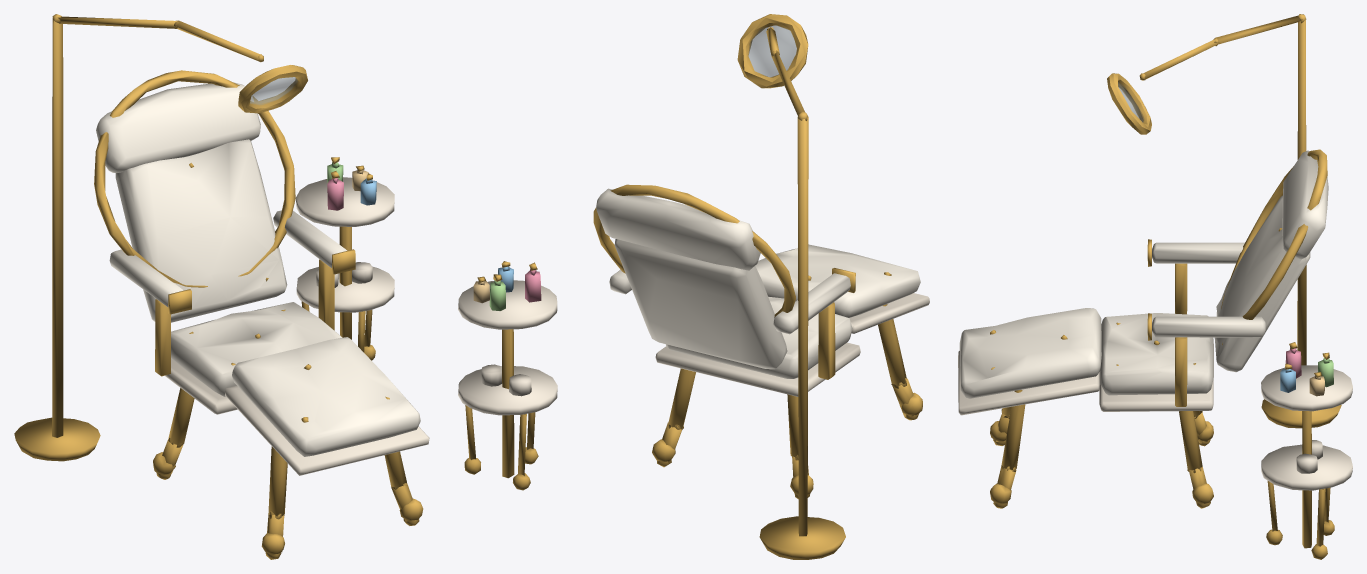
Rendered from facial-chair-throne.glb.
3 views of the same model, side by side, from view 1: azimuth 30°, elevation 25°; view 2: azimuth 150°, elevation 25°; view 3: azimuth 270°, elevation 25° (orthographic). The views are drawn at different scales.
Visible parts, largest first — view 1: facial-chair-throne; view 2: facial-chair-throne; view 3: facial-chair-throne.
Part boxes in pixels (box(x1,y1,x2,y2)): facial-chair-throne: box(14, 14, 429, 559); facial-chair-throne: box(458, 14, 929, 559); facial-chair-throne: box(958, 14, 1352, 559).
Size of the model in its own units: 1.45 by 1.68 by 1.44.
